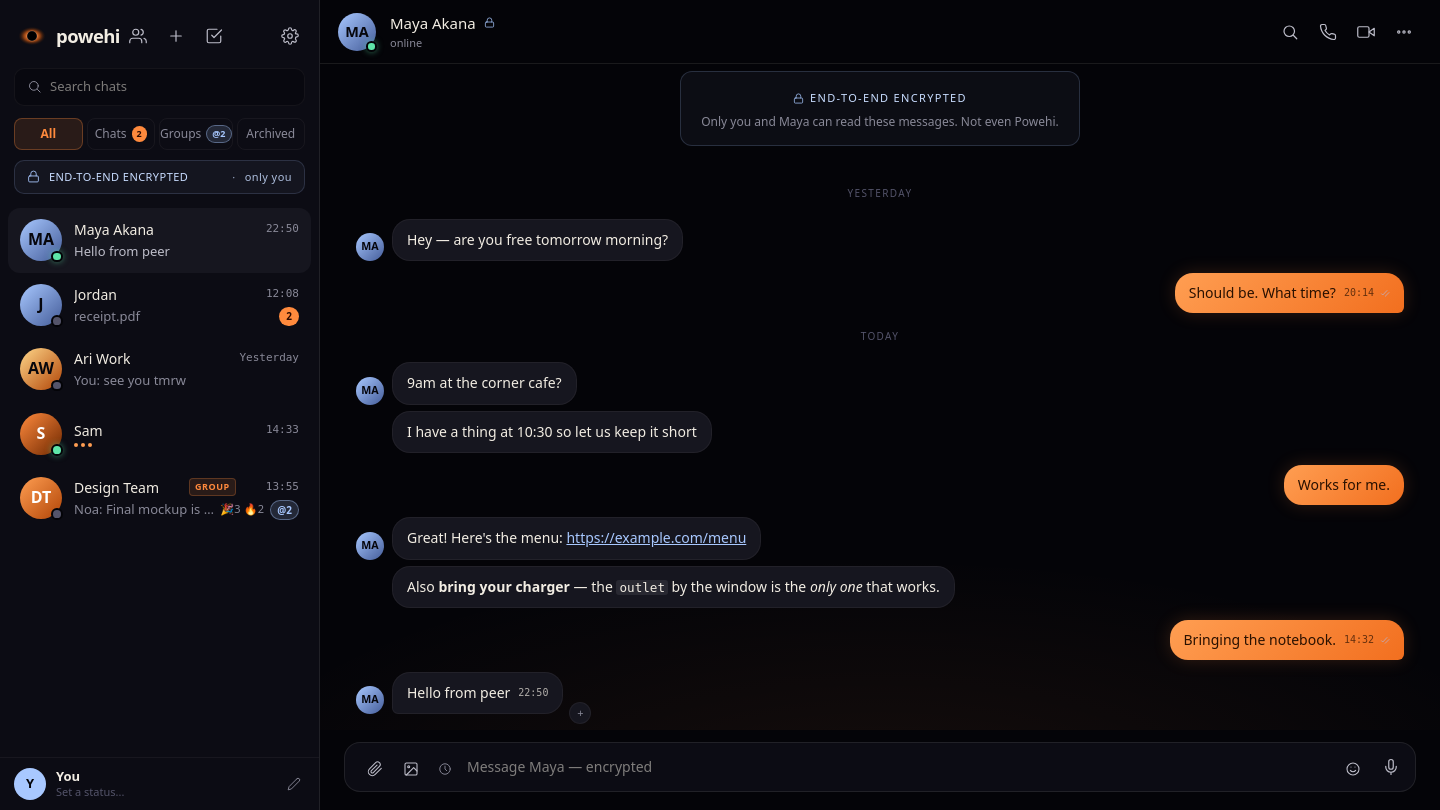
Test: ChatLayout — Web Share API (navigator.share) › share button appears on hover for an incoming text message with a stable envelope id
(page scrolled)
Hover over the element with test id "message-bubble" showing "MA Hello from peer 22:50 +" at (474, 698), box left=356, top=672, right=591, bottom=724
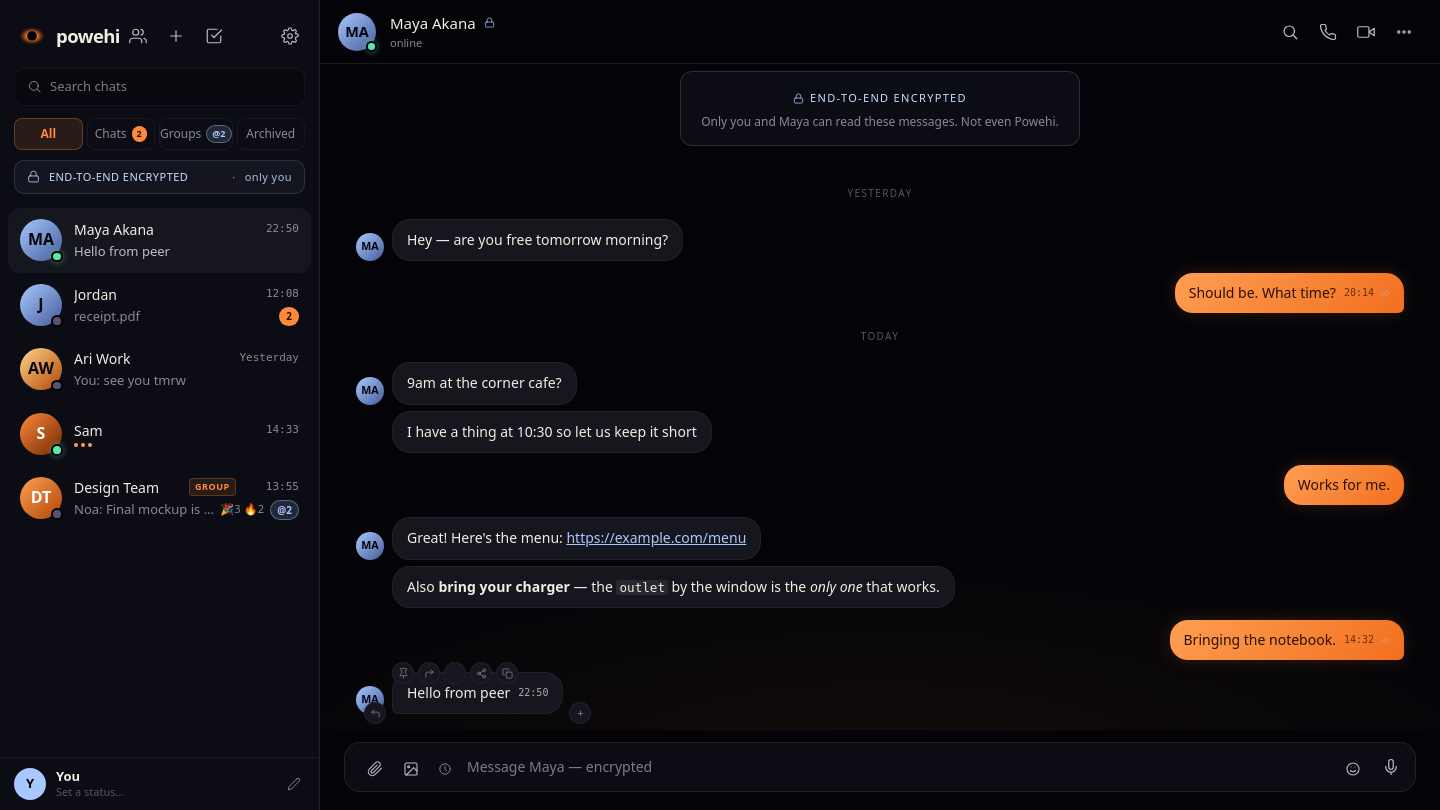
Now the button with test id "share-button" is shown, box left=470, top=662, right=492, bottom=684
